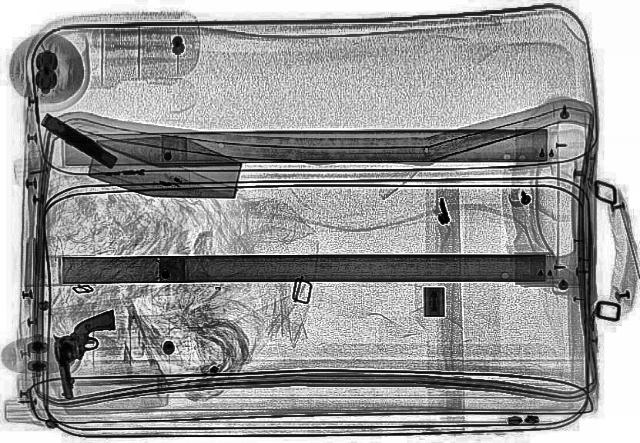Gun: (42, 310, 136, 400), (34, 111, 124, 169)
